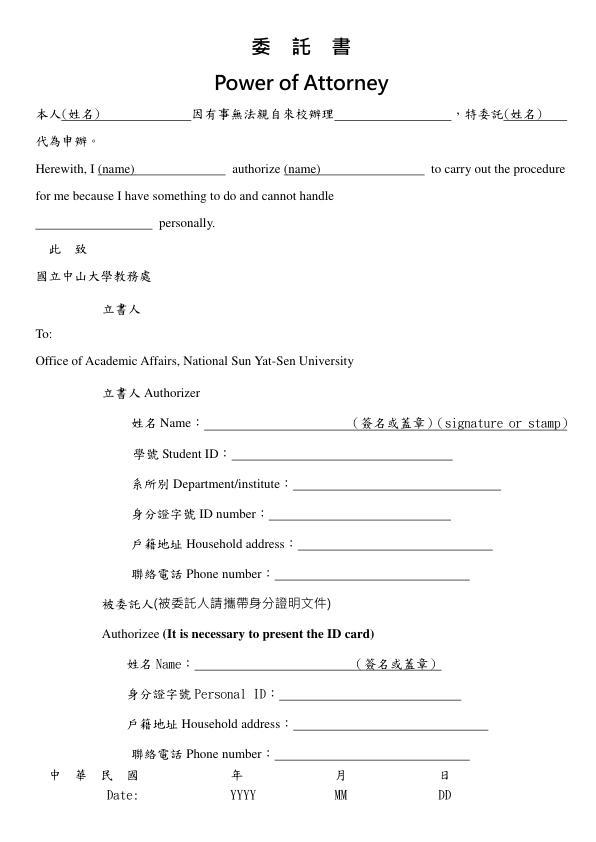input: (233, 440, 449, 466), (292, 471, 504, 497), (278, 739, 469, 765), (295, 710, 489, 735), (275, 561, 467, 585), (204, 407, 349, 438), (298, 532, 491, 555), (268, 502, 449, 525), (279, 683, 462, 705), (195, 650, 350, 675), (324, 154, 425, 181), (99, 100, 185, 130), (139, 155, 228, 182), (338, 104, 450, 125), (544, 99, 570, 125)
text: (30, 349, 358, 375), (31, 186, 338, 207), (350, 410, 571, 438), (211, 69, 392, 97), (94, 623, 379, 640), (99, 594, 335, 613), (122, 712, 290, 734), (128, 471, 288, 494), (429, 155, 567, 180), (127, 534, 294, 554), (188, 103, 335, 125), (127, 502, 267, 525), (123, 560, 270, 581), (122, 683, 275, 703), (129, 743, 274, 764), (245, 33, 354, 60), (30, 265, 156, 285), (122, 408, 202, 436), (128, 441, 228, 463), (462, 100, 542, 126), (228, 156, 321, 178), (33, 159, 134, 179), (95, 383, 212, 400), (354, 653, 439, 674), (43, 768, 142, 784), (31, 130, 101, 149), (122, 654, 192, 672), (155, 217, 221, 232), (99, 300, 148, 320), (99, 787, 146, 804), (33, 107, 95, 119), (42, 239, 90, 254), (224, 784, 259, 801), (28, 323, 53, 342), (434, 785, 458, 802), (331, 784, 349, 802), (434, 765, 453, 782), (228, 765, 245, 782), (333, 765, 349, 782)
